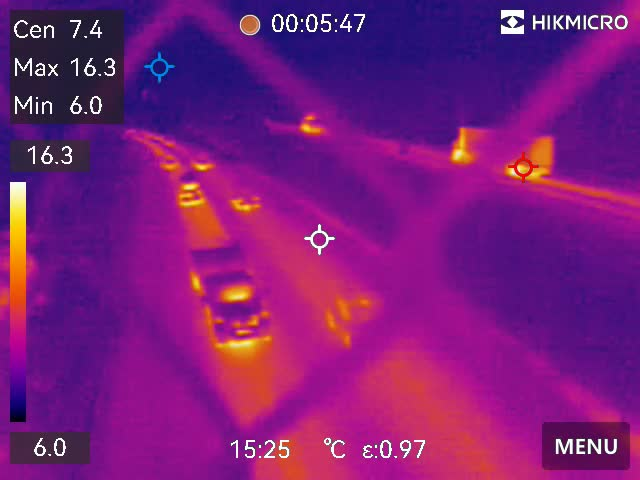heavyTruck: (447, 123, 553, 179)
